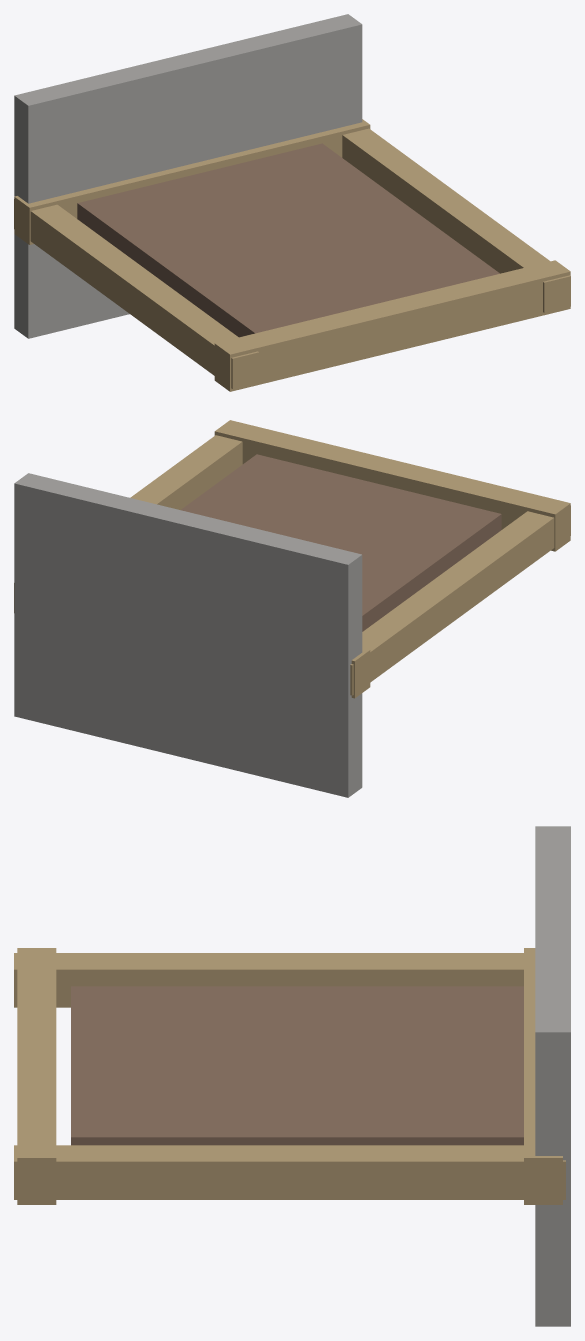
3 renders of one model, top to bottom at view 1: azimuth 30°, elevation 25°; view 2: azimuth 150°, elevation 25°; view 3: azimuth 270°, elevation 25°, orthographic. The views are drawn at different scales.
Visible parts, largest first — view 1: H01_part_5, H01_part_0, H01_part_4, H01_part_1, H01_part_2, H01_part_3; view 2: H01_part_0, H01_part_5, H01_part_1, H01_part_4, H01_part_2, H01_part_3; view 3: H01_part_5, H01_part_2, H01_part_0, H01_part_1, H01_part_4, H01_part_3.
Boxes of the visible parts, x1=… form: H01_part_5: x1=77, y1=143, x2=499, y2=337; H01_part_0: x1=14, y1=14, x2=362, y2=338; H01_part_4: x1=214, y1=260, x2=570, y2=391; H01_part_1: x1=14, y1=199, x2=259, y2=388; H01_part_2: x1=342, y1=128, x2=570, y2=312; H01_part_3: x1=14, y1=119, x2=370, y2=244; H01_part_0: x1=14, y1=473, x2=362, y2=797; H01_part_5: x1=180, y1=454, x2=501, y2=631; H01_part_1: x1=350, y1=505, x2=570, y2=695; H01_part_4: x1=214, y1=420, x2=570, y2=551; H01_part_2: x1=14, y1=435, x2=242, y2=612; H01_part_3: x1=351, y1=648, x2=370, y2=698; H01_part_5: x1=71, y1=986, x2=523, y2=1145; H01_part_2: x1=14, y1=1145, x2=565, y2=1199; H01_part_0: x1=535, y1=826, x2=570, y2=1326; H01_part_1: x1=14, y1=953, x2=523, y2=1007; H01_part_4: x1=17, y1=948, x2=56, y2=1204; H01_part_3: x1=524, y1=948, x2=562, y2=1204.
Bounding box in the file's own units: 1.53 × 1 × 1.72.
